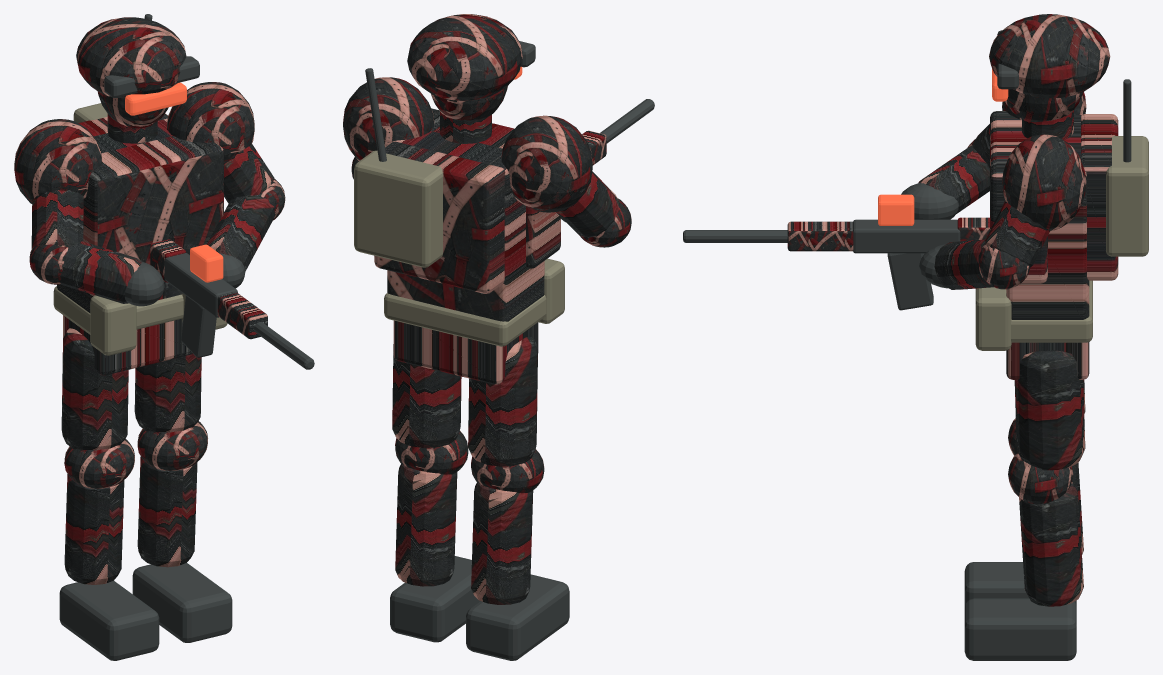
The model's file is enemy.glb.
3 views of the same model, side by side, from view 1: azimuth 30°, elevation 25°; view 2: azimuth 150°, elevation 25°; view 3: azimuth 270°, elevation 25° (orthographic). The views are drawn at different scales.
Parts seen in each view (by area): view 1: plate_carrier, helmet_shell, thigh_l, boot_l, boot_r, shin_l, shin_r, shoulder_l, shoulder_r, thigh_r, forearm_l, forearm_r (+23 smaller); view 2: back_plate, radio_pack, torso, helmet_shell, shoulder_l, thigh_l, shin_r, shin_l, boot_l, thigh_r, pelvis, shoulder_r (+13 smaller); view 3: helmet_shell, thigh_r, boot_r, shin_r, shoulder_r, torso, radio_pack, back_plate, enemy_rifle_receiver, plate_carrier, forearm_l, upper_arm_r (+16 smaller).
Part boxes in pixels (x1,y1,x2,y2): plate_carrier: [83, 136, 223, 264]; helmet_shell: [76, 17, 186, 98]; thigh_l: [61, 328, 128, 450]; boot_l: [59, 580, 159, 660]; boot_r: [132, 563, 232, 642]; shin_l: [64, 474, 124, 584]; shin_r: [137, 456, 197, 567]; shoulder_l: [14, 119, 101, 203]; shoulder_r: [167, 82, 254, 163]; thigh_r: [134, 354, 201, 432]; forearm_l: [59, 241, 141, 303]; forearm_r: [207, 194, 275, 271]; back_plate: [374, 141, 505, 293]; radio_pack: [354, 150, 442, 267]; torso: [387, 131, 544, 321]; helmet_shell: [407, 14, 522, 100]; shoulder_l: [501, 115, 592, 212]; thigh_l: [468, 336, 537, 466]; shin_r: [395, 464, 457, 586]; shin_l: [471, 483, 533, 604]; boot_l: [466, 574, 569, 660]; thigh_r: [392, 344, 461, 447]; pelvis: [393, 320, 538, 384]; shoulder_r: [343, 77, 434, 160]; helmet_shell: [989, 14, 1110, 98]; thigh_r: [1014, 350, 1085, 470]; boot_r: [964, 598, 1076, 660]; shin_r: [1019, 482, 1083, 606]; shoulder_r: [1002, 134, 1086, 231]; torso: [1006, 114, 1089, 319]; radio_pack: [1106, 136, 1148, 256]; back_plate: [1081, 114, 1118, 280]; enemy_rifle_receiver: [853, 219, 960, 253]; plate_carrier: [990, 111, 1047, 283]; forearm_l: [918, 145, 989, 213]; upper_arm_r: [985, 201, 1049, 267].
Bounding box in the file's own units: 0.844 × 1.87 × 1.29.
6 materials, 3 textured.
